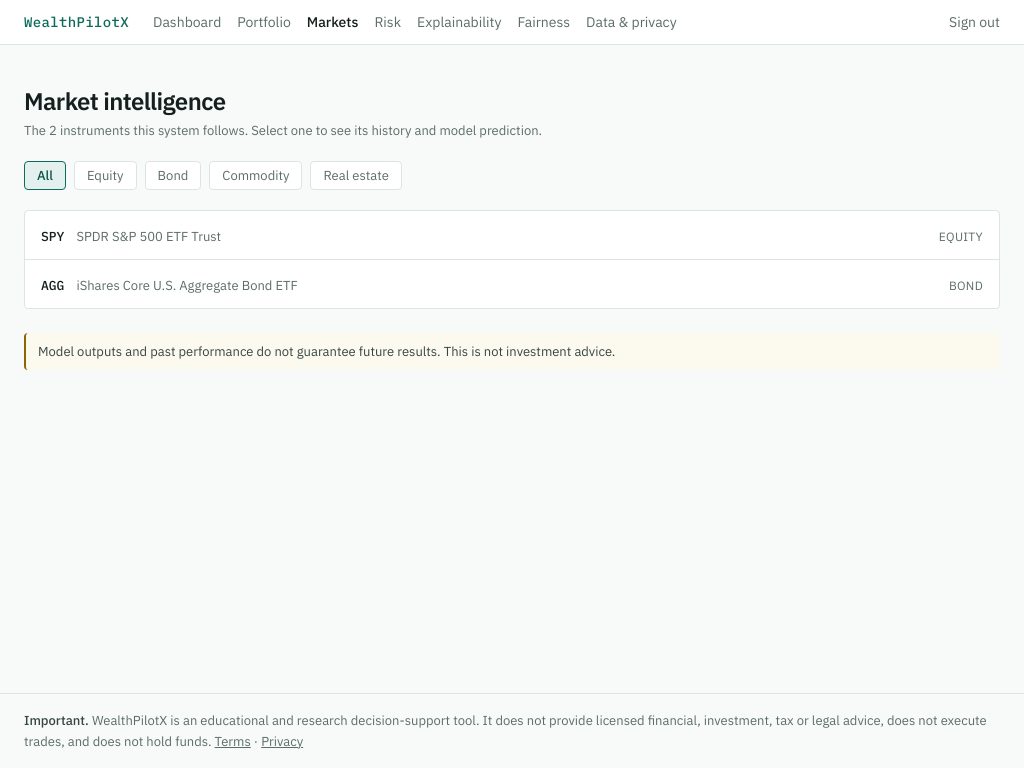
Market intelligence › opens an asset's detail with its prediction
Click the button "SPY".
click(149, 236)  # box [25, 211, 999, 259]
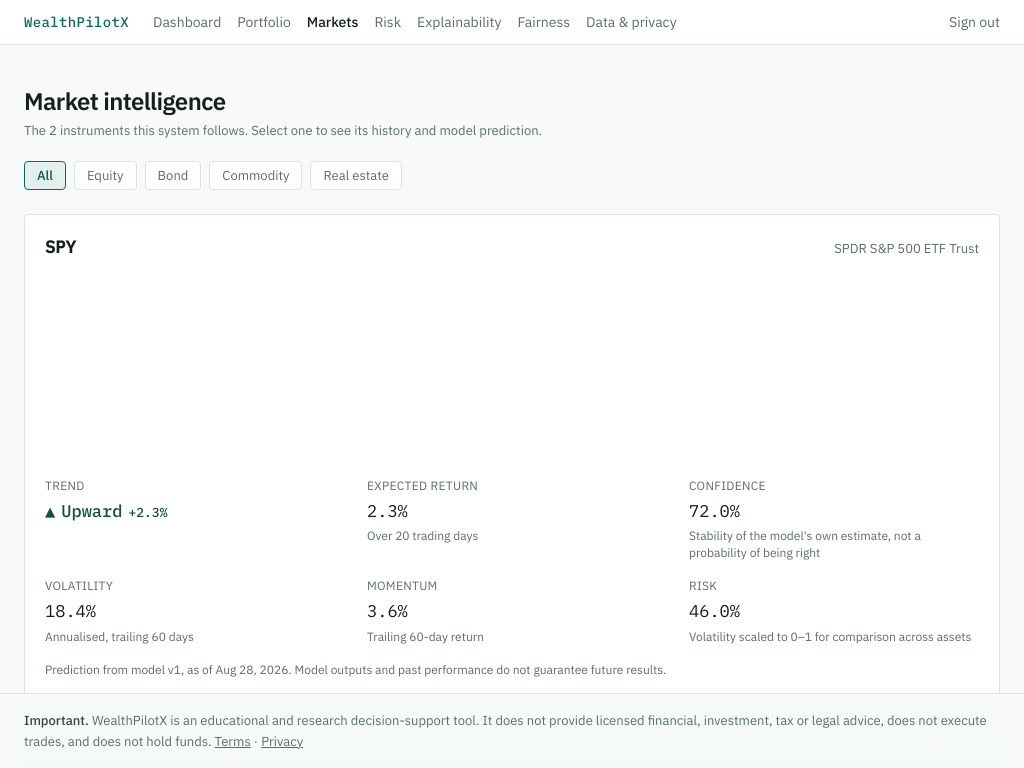
expect the text "Upward" is shown: met, box [61, 498, 122, 524]
expect the text "72.0%" is shown: met, box [689, 500, 740, 522]
